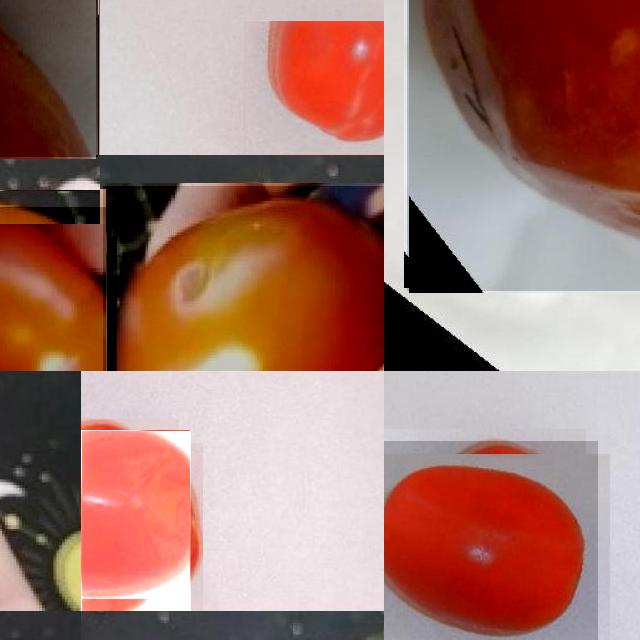0: (102, 186, 384, 371), (0, 207, 117, 371), (244, 20, 384, 155)
1: (0, 0, 98, 157)
Fresh Tomato: (384, 441, 598, 640)
Rotten Tomato: (406, 0, 640, 290), (81, 430, 190, 611)
